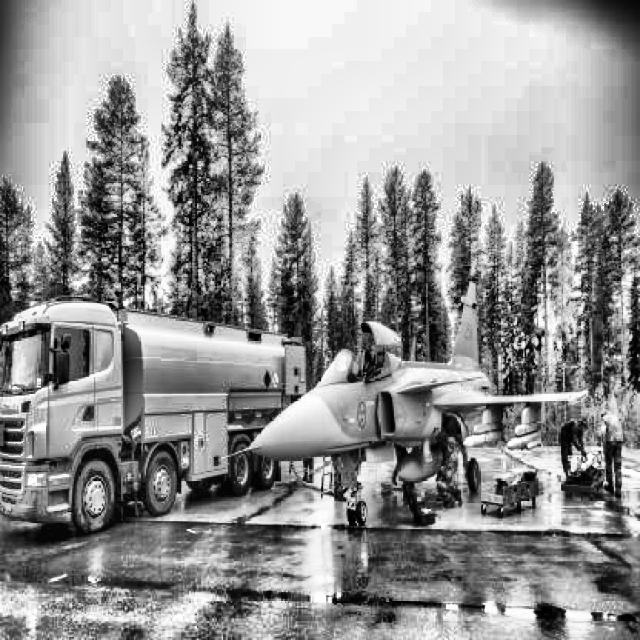JAS39: (214, 281, 588, 525)
